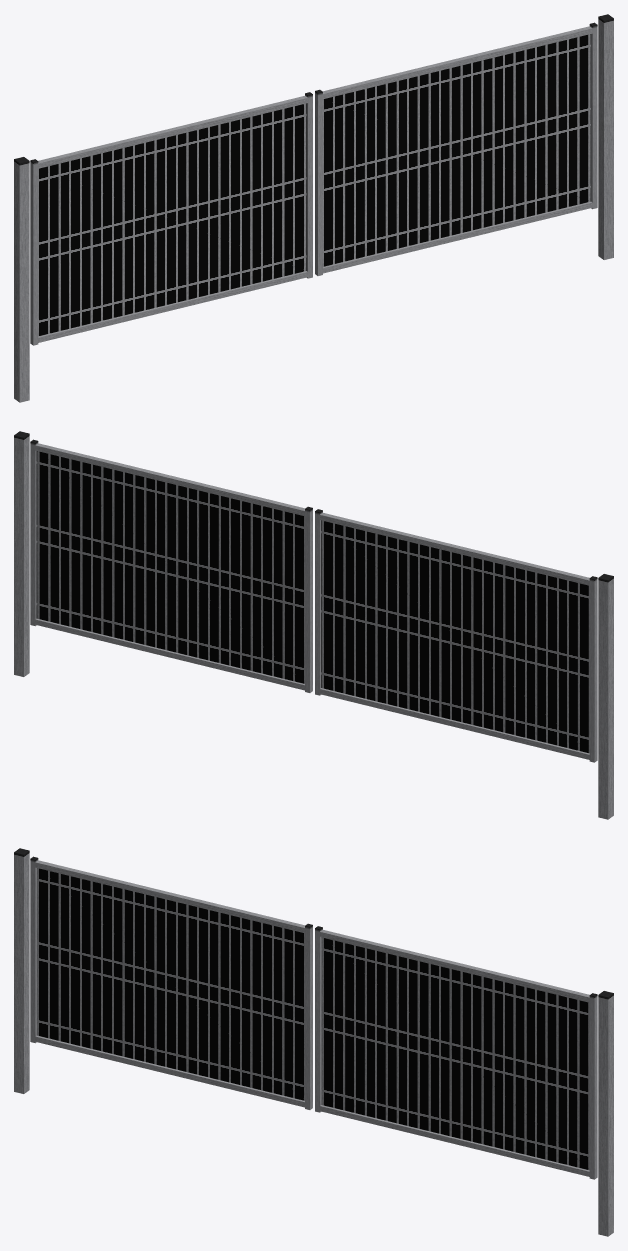
The model's file is fence-mesh-grey-gateX2-2m-cbj_LOD01.gltf.
The picture shows the model from 3 angles, top to bottom: view 1: azimuth 30°, elevation 25°; view 2: azimuth 150°, elevation 25°; view 3: azimuth 330°, elevation 25°; orthographic projection.
Parts seen in each view (by area): view 1: post.003; view 2: post.003; view 3: post.003.
Part boxes in pixels (x1,y1,x2,y2): post.003: [14, 14, 613, 402]; post.003: [14, 431, 613, 819]; post.003: [14, 848, 613, 1236].
Size of the model in its own units: 4.16 by 1.6 by 0.07.
